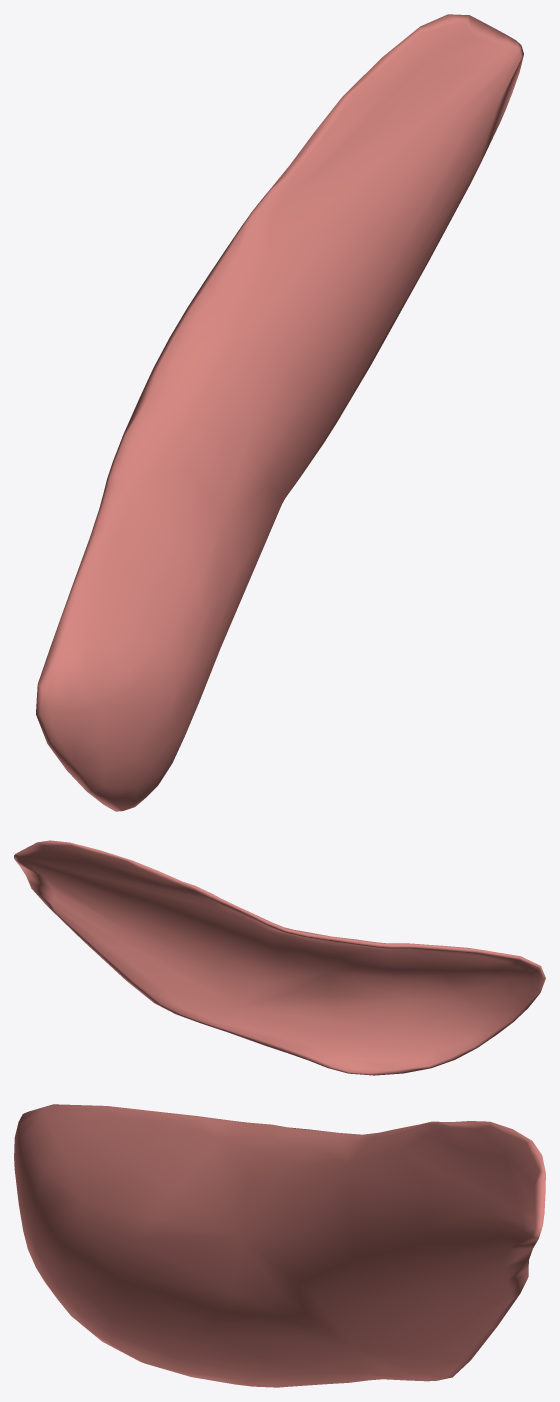
3 views of the same model, one above another, from view 1: azimuth 30°, elevation 25°; view 2: azimuth 150°, elevation 25°; view 3: azimuth 270°, elevation 25° (orthographic). The views are drawn at different scales.
Visible parts, largest first — view 1: ZA_d32285206d0fe8e3; view 2: ZA_d32285206d0fe8e3; view 3: ZA_d32285206d0fe8e3.
Part boxes in pixels (x1=…): ZA_d32285206d0fe8e3: x1=36, y1=14, x2=523, y2=811; ZA_d32285206d0fe8e3: x1=14, y1=840, x2=545, y2=1075; ZA_d32285206d0fe8e3: x1=14, y1=1104, x2=545, y2=1387.
Size of the model in its own units: 0.0387 by 0.0232 by 0.0255.
